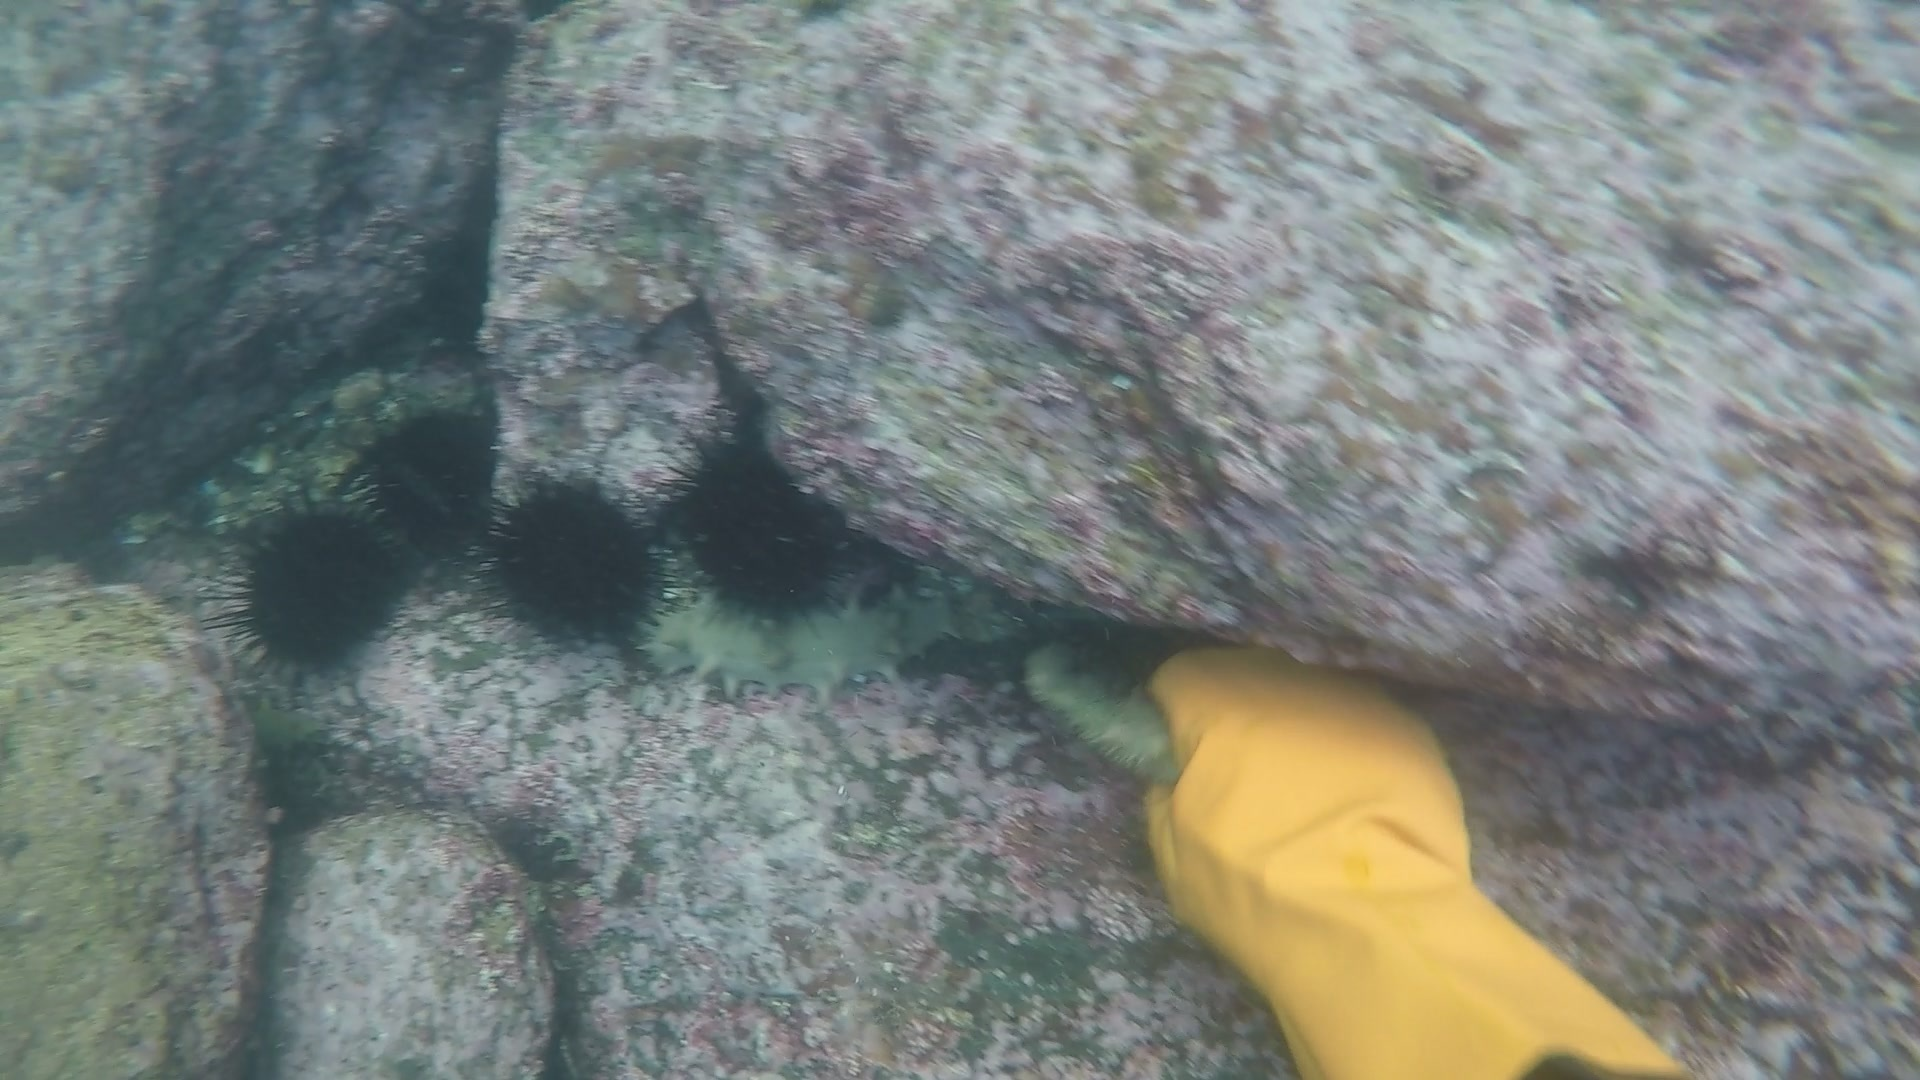echinus: (649, 419, 857, 636), (204, 491, 415, 684), (467, 468, 680, 653), (342, 396, 506, 551)
holothurian: (638, 571, 992, 709), (1021, 636, 1184, 782)
